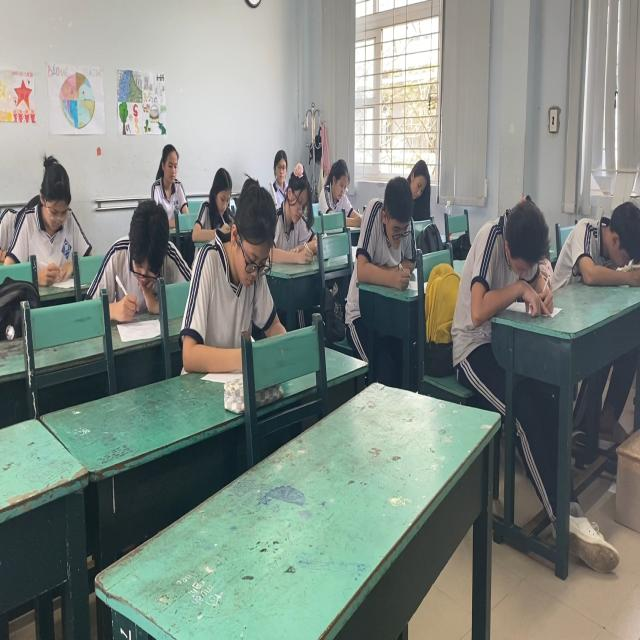not_cheating: (214, 176, 283, 352), (103, 190, 186, 317), (480, 194, 556, 314), (15, 152, 85, 269), (354, 169, 412, 300), (556, 200, 640, 286), (142, 132, 182, 220), (192, 162, 237, 231), (283, 165, 315, 256), (321, 152, 354, 213), (404, 155, 434, 201), (266, 141, 290, 190)
